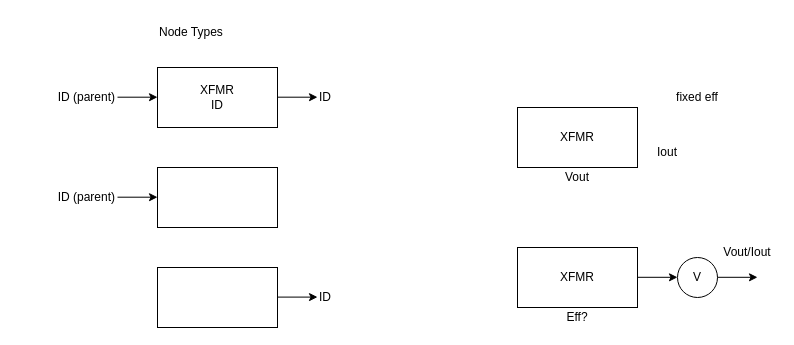
Some shapes in this 794 by 345 pixel diagram are drawn without their labels. Here are the shapes that lost their labels. From the top down, the centre of each, then its label:
At (x=217, y=197): "SINK ID (ID used for observe)".
At (x=217, y=297): "HEAD?".
